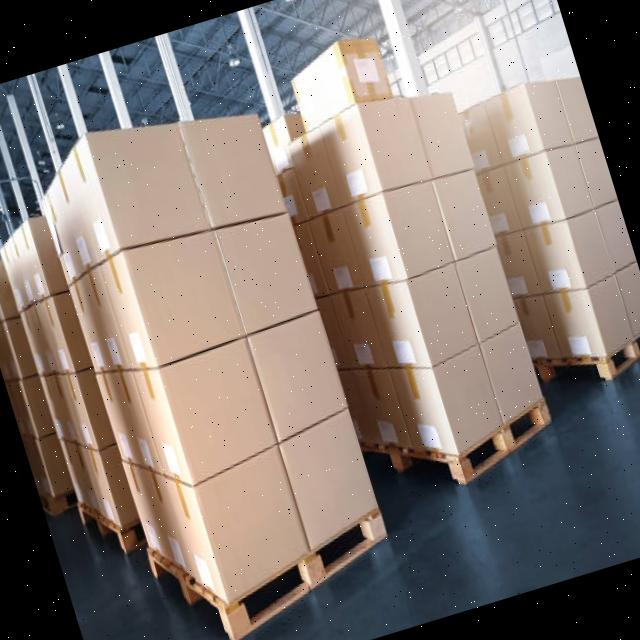Wooden-Pallets: (144, 507, 387, 640), (367, 398, 557, 486), (74, 498, 137, 566), (603, 323, 640, 390)
